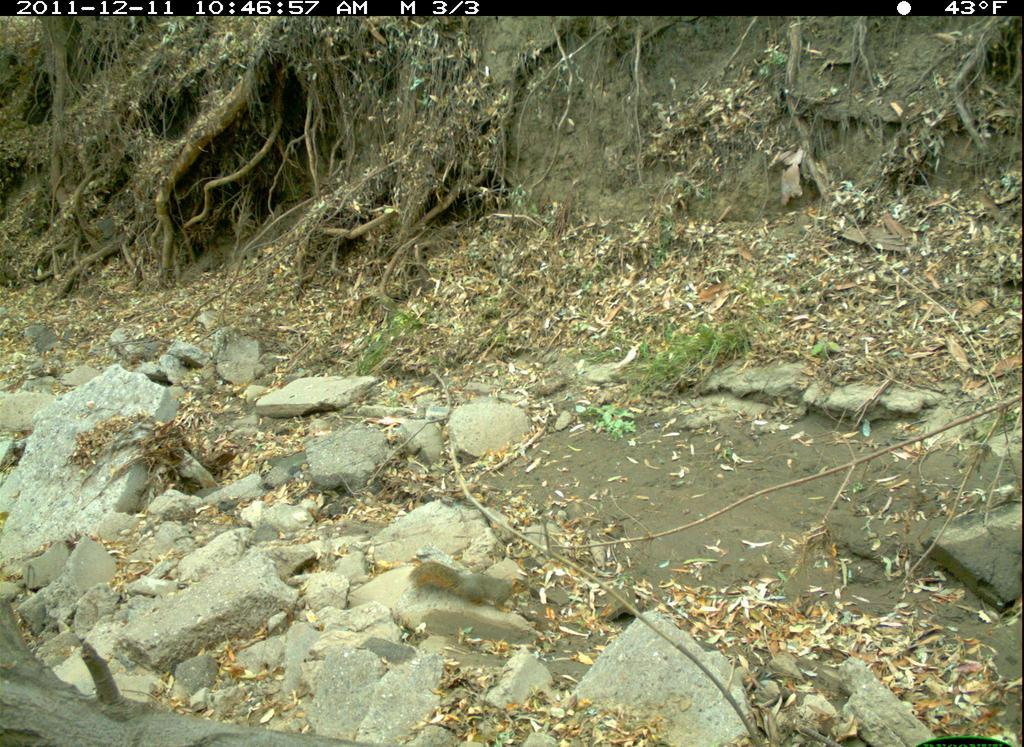squirrel: (410, 546, 538, 621)
